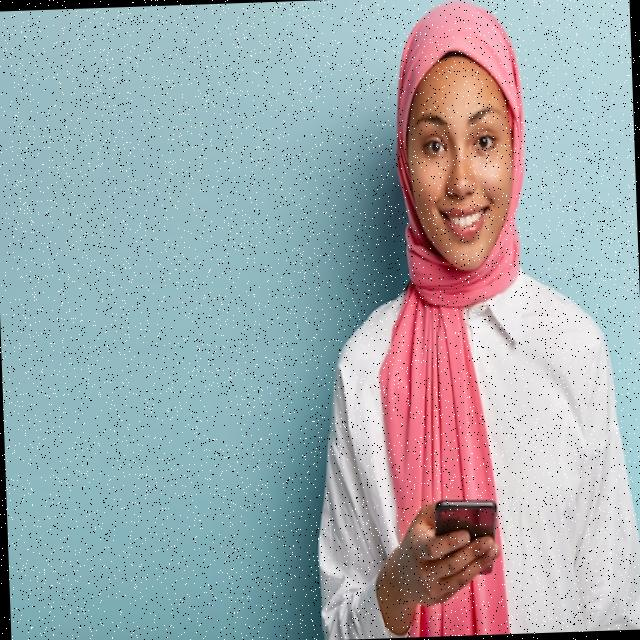Person: (297, 0, 640, 640)
